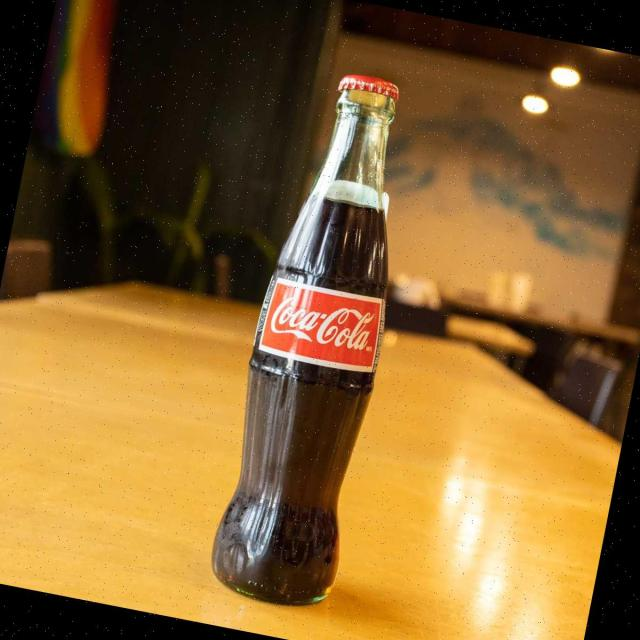coca-cola: (198, 60, 446, 614)
